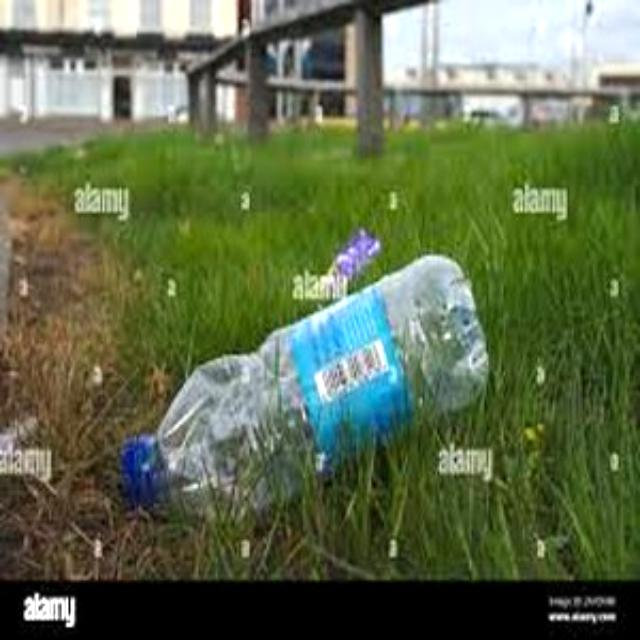Plastic: (126, 248, 494, 510)
